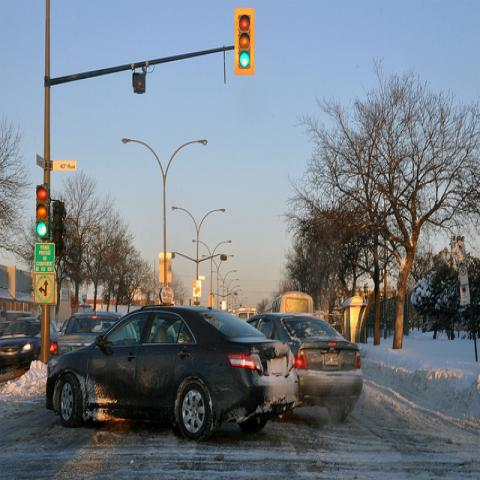bus: (264, 291, 313, 316)
car: (46, 306, 299, 442), (245, 313, 362, 424), (57, 310, 128, 358), (1, 316, 60, 372)
